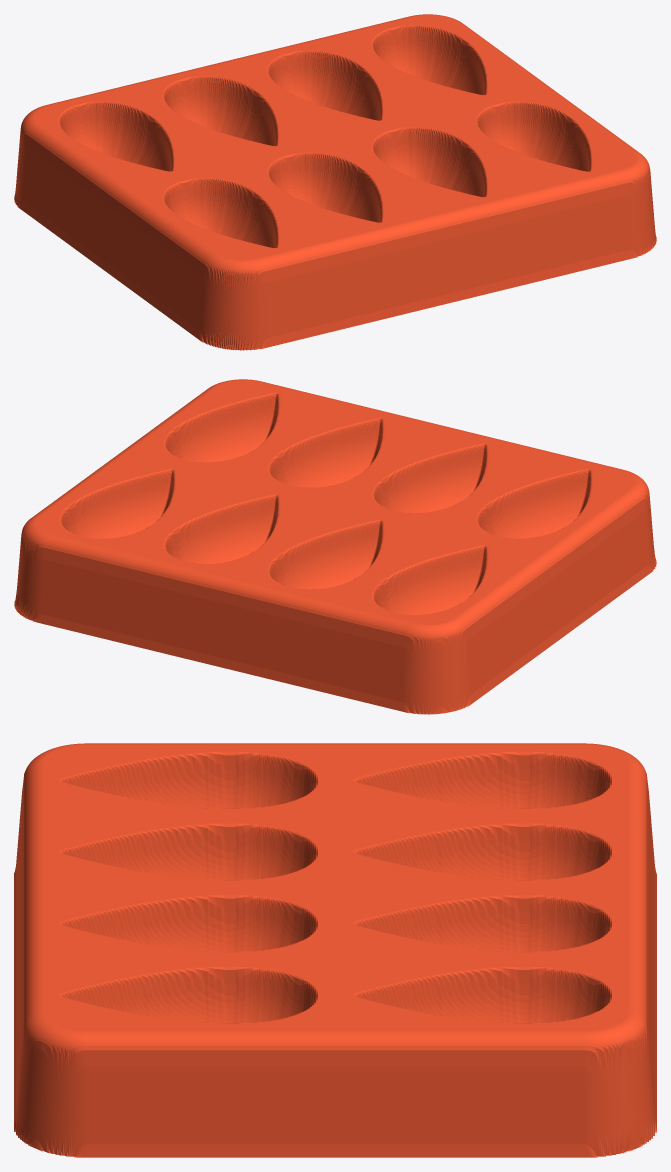
The model's file is mold.glb.
The picture shows the model from 3 angles, top to bottom: view 1: azimuth 30°, elevation 25°; view 2: azimuth 150°, elevation 25°; view 3: azimuth 270°, elevation 25°; orthographic projection. The views are drawn at different scales.
Parts seen in each view (by area): view 1: geometry_0; view 2: geometry_0; view 3: geometry_0.
Part boxes in pixels (x1,y1,x2,y2): geometry_0: (14,14,656,350); geometry_0: (14,379,656,714); geometry_0: (14,743,656,1157).
Size of the model in its own units: 0.0923 by 0.0159 by 0.0809.
